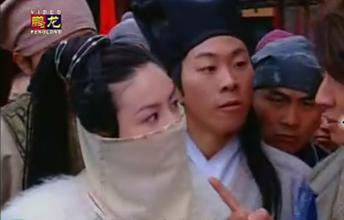NONE: (189, 47, 254, 126), (260, 86, 317, 151), (317, 58, 344, 148)
OK: (111, 93, 188, 170)
